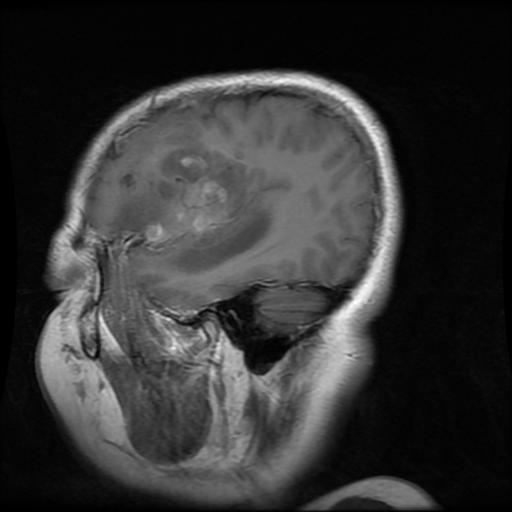Gliomia_tumour: (110, 145, 270, 270)
